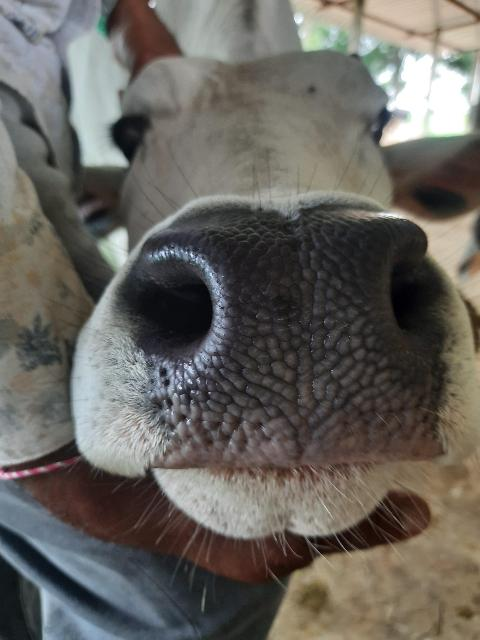Muzzle: (172, 234, 414, 448)
